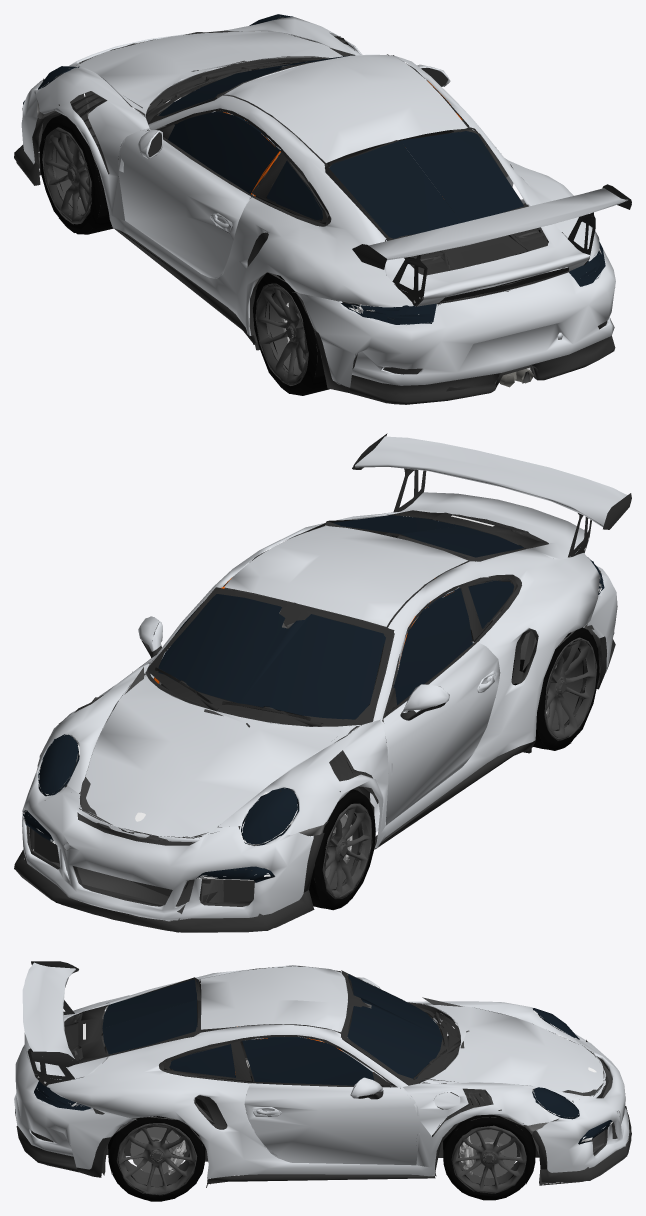
Rendered from porsche-911-gt3-hero.glb.
The picture shows the model from 3 angles, top to bottom: view 1: azimuth 30°, elevation 25°; view 2: azimuth 150°, elevation 25°; view 3: azimuth 270°, elevation 25°; orthographic projection. The views are drawn at different scales.
Visible parts, largest first — view 1: Paint, Glass, Trim.044, Trim.054, Metal.073, Metal.026, Rubber.004, Rubber.007, Trim.067, Trim.048, Trim.031, Trim.045 (+4 smaller); view 2: Paint, Glass, Trim.067, Trim.044, Trim.036, Metal.073, Trim.048, Metal.026, Rubber.004, Rubber.007, Trim.037, Trim.031 (+4 smaller); view 3: Paint, Glass, Trim.044, Metal.013, Metal.096, Trim.067, Rubber.008, Rubber.002, Trim.036, Trim.048, Trim.054, Metal.068 (+7 smaller).
Boxes of the visible parts, x1,y1,x2,y2 form: Paint: (21, 17, 627, 387); Glass: (23, 14, 605, 324); Trim.044: (71, 36, 569, 350); Trim.054: (314, 329, 615, 404); Metal.073: (255, 283, 317, 385); Metal.026: (42, 127, 95, 224); Rubber.004: (39, 114, 113, 234); Rubber.007: (253, 273, 329, 395); Trim.067: (148, 55, 512, 240); Trim.048: (38, 32, 539, 383); Trim.031: (159, 59, 523, 241); Trim.045: (392, 214, 595, 306); Paint: (22, 436, 627, 921); Glass: (22, 515, 604, 882); Trim.067: (147, 519, 524, 726); Trim.044: (74, 510, 548, 849); Trim.036: (14, 800, 324, 932); Metal.073: (536, 637, 597, 740); Trim.048: (51, 514, 548, 906); Metal.026: (322, 803, 372, 899); Rubber.004: (309, 789, 375, 910); Rubber.007: (511, 627, 599, 750); Trim.037: (24, 810, 314, 921); Trim.031: (182, 523, 519, 770); Paint: (14, 962, 629, 1178); Glass: (34, 974, 611, 1144); Trim.044: (64, 966, 491, 1187); Metal.013: (116, 1118, 197, 1195); Metal.096: (451, 1117, 526, 1193); Trim.067: (129, 970, 448, 1085); Rubber.008: (443, 1114, 535, 1200); Rubber.002: (108, 1116, 205, 1201); Trim.036: (532, 1040, 631, 1185); Trim.048: (71, 997, 617, 1178); Trim.054: (15, 1109, 110, 1177); Metal.068: (461, 1129, 517, 1178).
Size of the model in its own units: 1.86 by 1.22 by 4.29.
